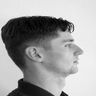ear: (23, 41, 48, 66)
